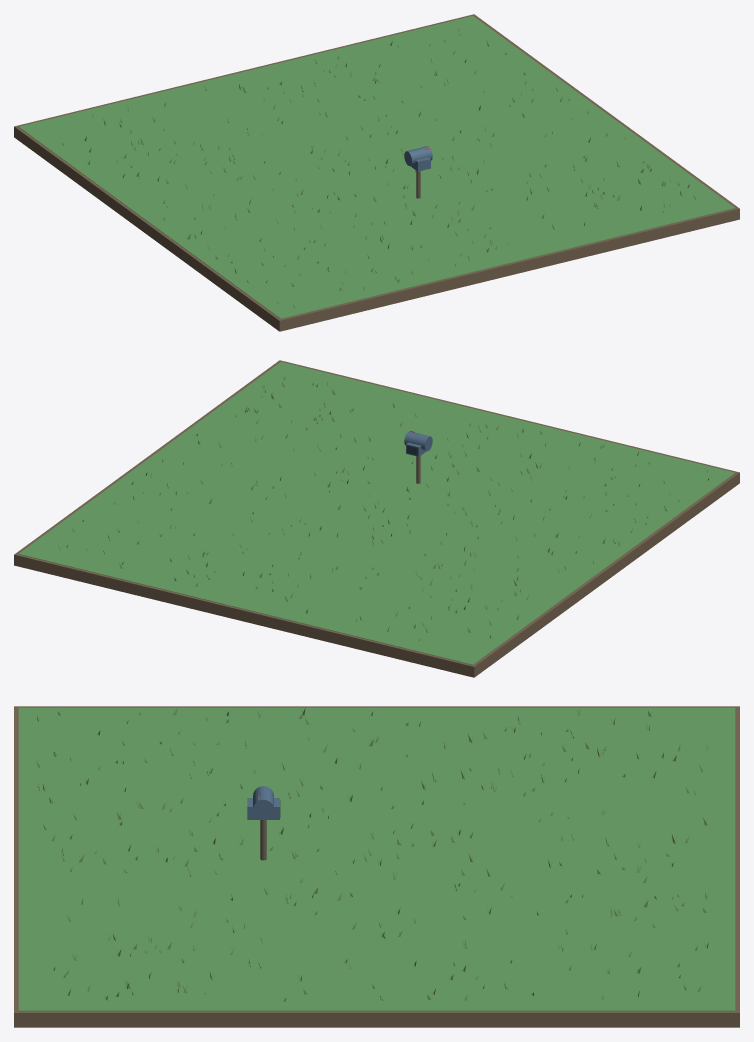
The model's file is outdoorRoom.glb.
The picture shows the model from 3 angles, top to bottom: view 1: azimuth 30°, elevation 25°; view 2: azimuth 150°, elevation 25°; view 3: azimuth 270°, elevation 25°; orthographic projection. The views are drawn at different scales.
Parts seen in each view (by area): view 1: Grass Turf, Outdoor Ground, Grass Blades; view 2: Grass Turf, Outdoor Ground, Grass Blades; view 3: Grass Turf, Outdoor Ground, Grass Blades, Mailbox Arch.
Part boxes in pixels (left/top/right/bottom): Grass Turf: left=19, top=16, right=734, bottom=318; Outdoor Ground: left=14, top=14, right=739, bottom=331; Grass Blades: left=61, top=28, right=695, bottom=307; Grass Turf: left=19, top=362, right=734, bottom=664; Outdoor Ground: left=14, top=360, right=739, bottom=677; Grass Blades: left=58, top=375, right=709, bottom=640; Grass Turf: left=18, top=707, right=735, bottom=1010; Outdoor Ground: left=14, top=706, right=739, bottom=1027; Grass Blades: left=36, top=708, right=709, bottom=1001; Mailbox Arch: left=253, top=786, right=273, bottom=818.
Size of the model in its own units: 16 by 1.98 by 16.
